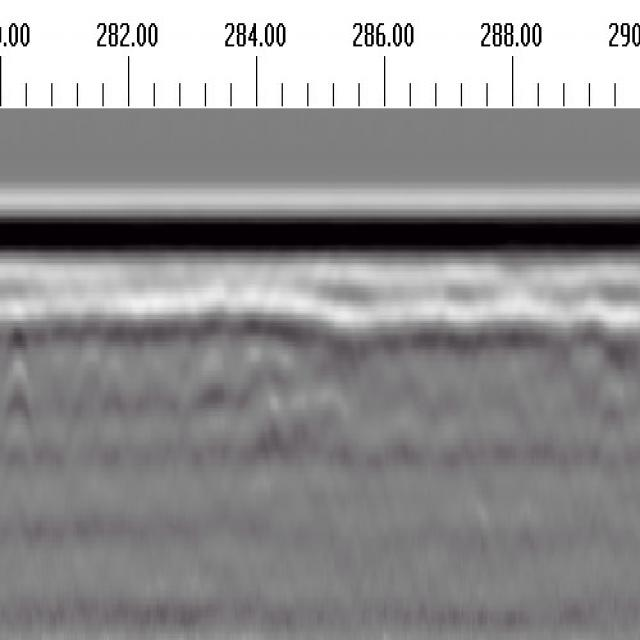crack: (5, 305, 34, 521)
loose: (170, 311, 343, 460)
